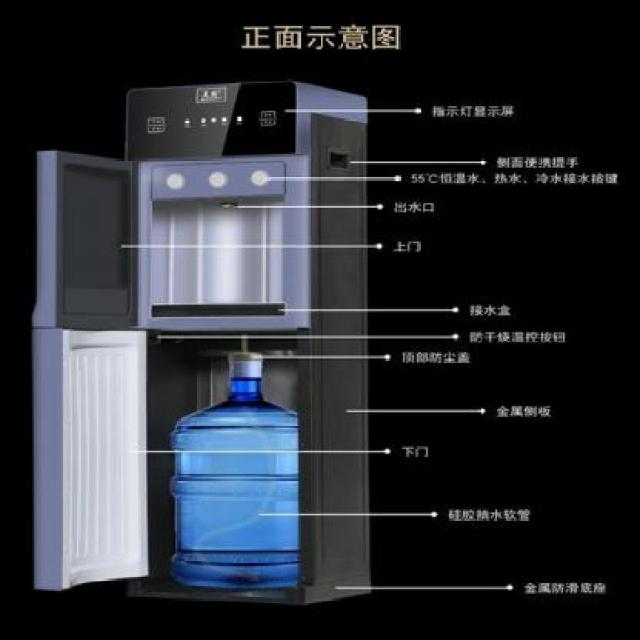cooler: (118, 78, 370, 604)
